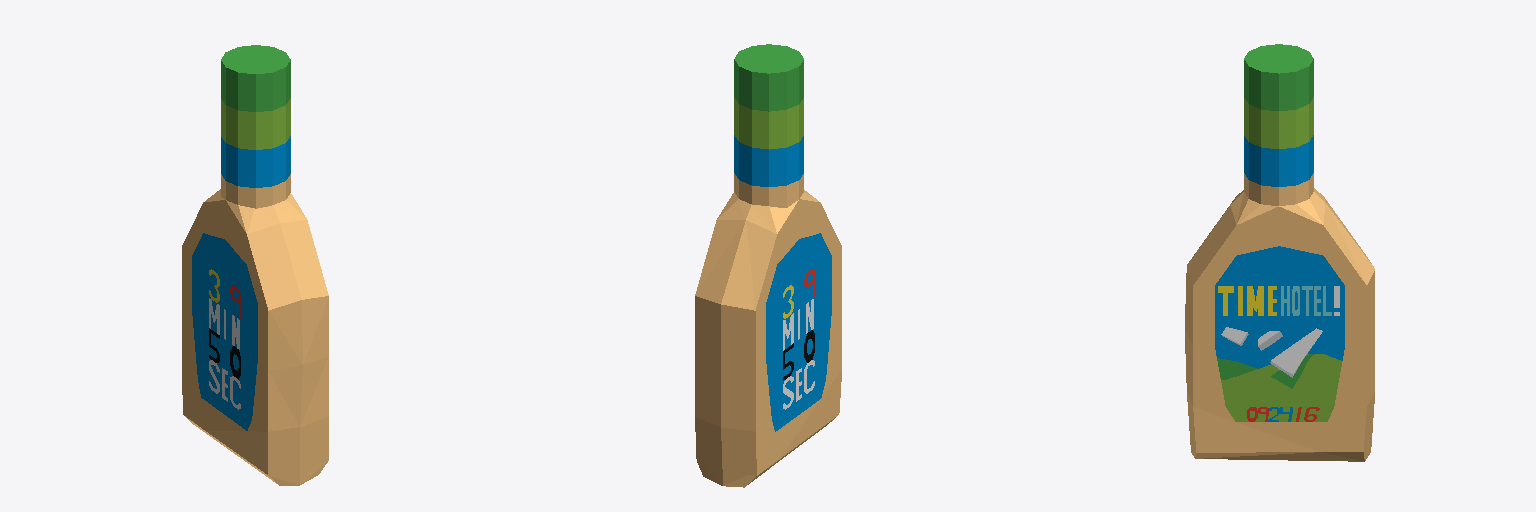
3 views of the same model, side by side, from view 1: azimuth 30°, elevation 25°; view 2: azimuth 150°, elevation 25°; view 3: azimuth 270°, elevation 25° (orthographic).
Parts seen in each view (by area): view 1: group[number redacted], group[number redacted]; view 2: group[number redacted], group[number redacted]; view 3: group[number redacted], group[number redacted].
Boxes of the visible parts, x1=… form: group[number redacted]: x1=182, y1=189, x2=328, y2=485; group[number redacted]: x1=221, y1=45, x2=290, y2=208; group[number redacted]: x1=695, y1=190, x2=841, y2=487; group[number redacted]: x1=734, y1=44, x2=803, y2=207; group[number redacted]: x1=1185, y1=188, x2=1374, y2=461; group[number redacted]: x1=1244, y1=44, x2=1313, y2=205.
Bounding box in the file's own units: 0.4913 × 2.98 × 1.31.